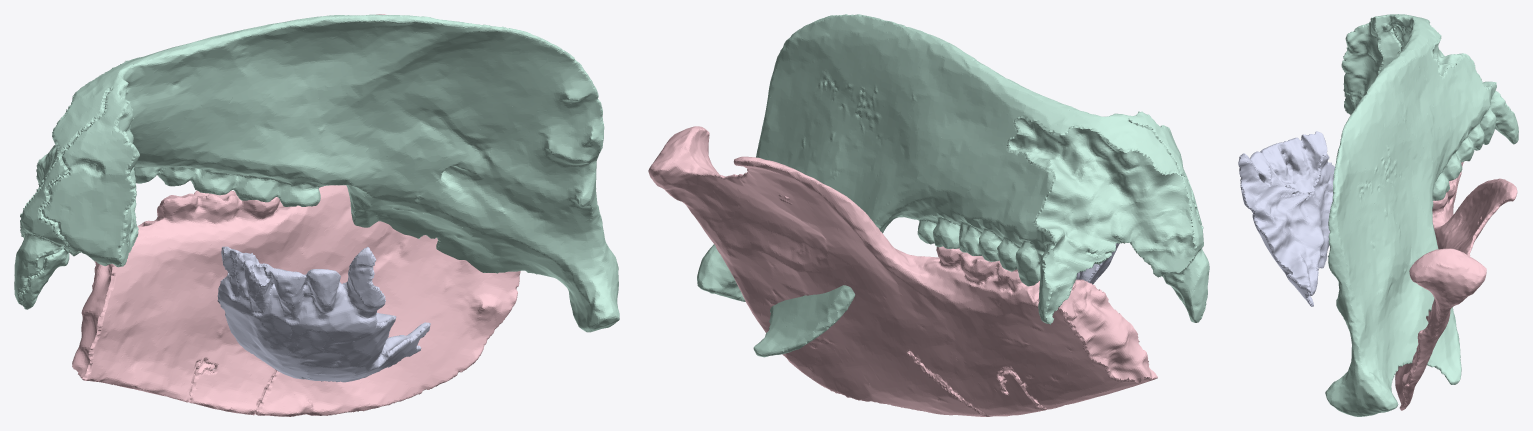
Rendered from 73544_colored.glb.
The picture shows the model from 3 angles, left to right: view 1: azimuth 30°, elevation 25°; view 2: azimuth 150°, elevation 25°; view 3: azimuth 270°, elevation 25°; orthographic projection. The views are drawn at different scales.
Parts seen in each view (by area): view 1: world; view 2: world; view 3: world.
Part boxes in pixels (box(x1,y1,x2,y2)): world: box(14, 14, 619, 416); world: box(648, 14, 1209, 416); world: box(1238, 14, 1518, 416).
Bounding box in the file's own units: 1 × 0.6795 × 0.5761.
